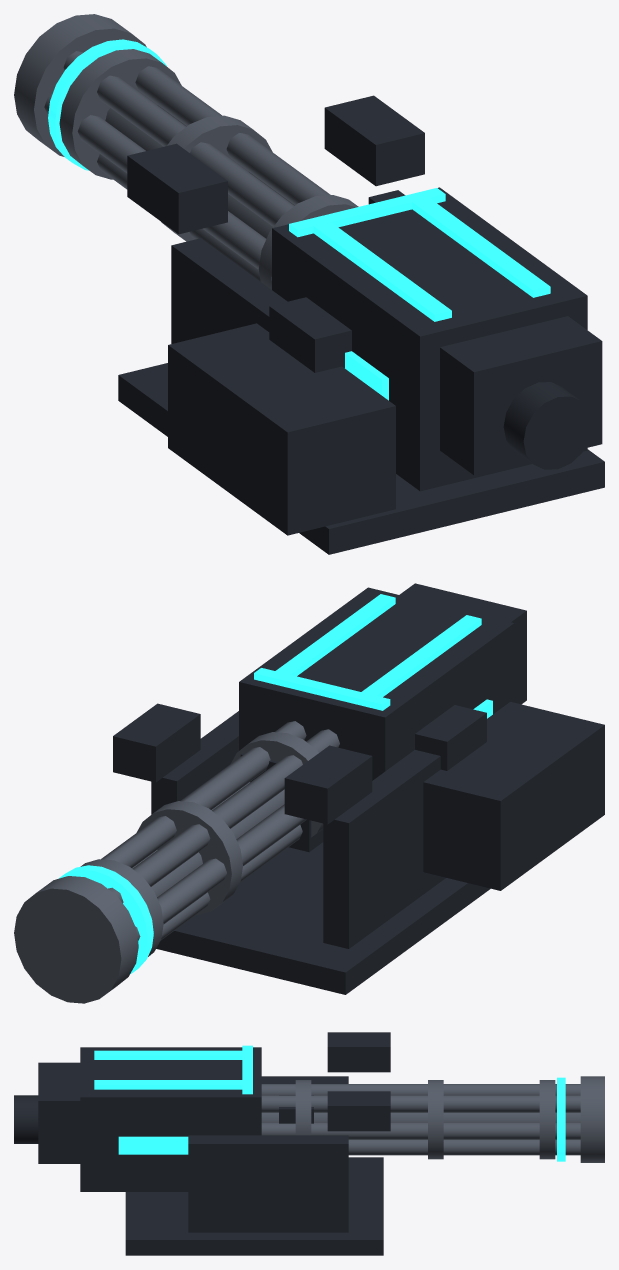
Rendered from wpn_gatling.glb.
3 views of the same model, one above another, from view 1: azimuth 30°, elevation 25°; view 2: azimuth 150°, elevation 25°; view 3: azimuth 270°, elevation 25° (orthographic). The views are drawn at different scales.
Visible parts, largest first — view 1: housing, barrels, trim; view 2: housing, barrels, trim; view 3: housing, barrels, trim.
Part boxes in pixels (x1=…): housing: x1=118, y1=95, x2=604, y2=554; barrels: x1=14, y1=14, x2=358, y2=289; trim: x1=48, y1=39, x2=550, y2=400; housing: x1=113, y1=583, x2=604, y2=994; barrels: x1=14, y1=721, x2=339, y2=1003; trim: x1=59, y1=594, x2=492, y2=974; housing: x1=14, y1=1032, x2=390, y2=1255; barrels: x1=261, y1=1076, x2=604, y2=1162; trim: x1=94, y1=1045, x2=565, y2=1161.
Size of the model in its own units: 0.69 by 0.464 by 1.69.
